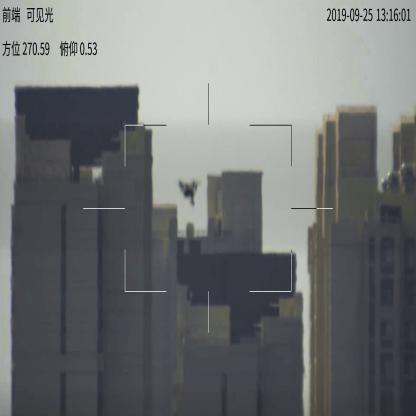uav: (178, 178, 199, 208)
